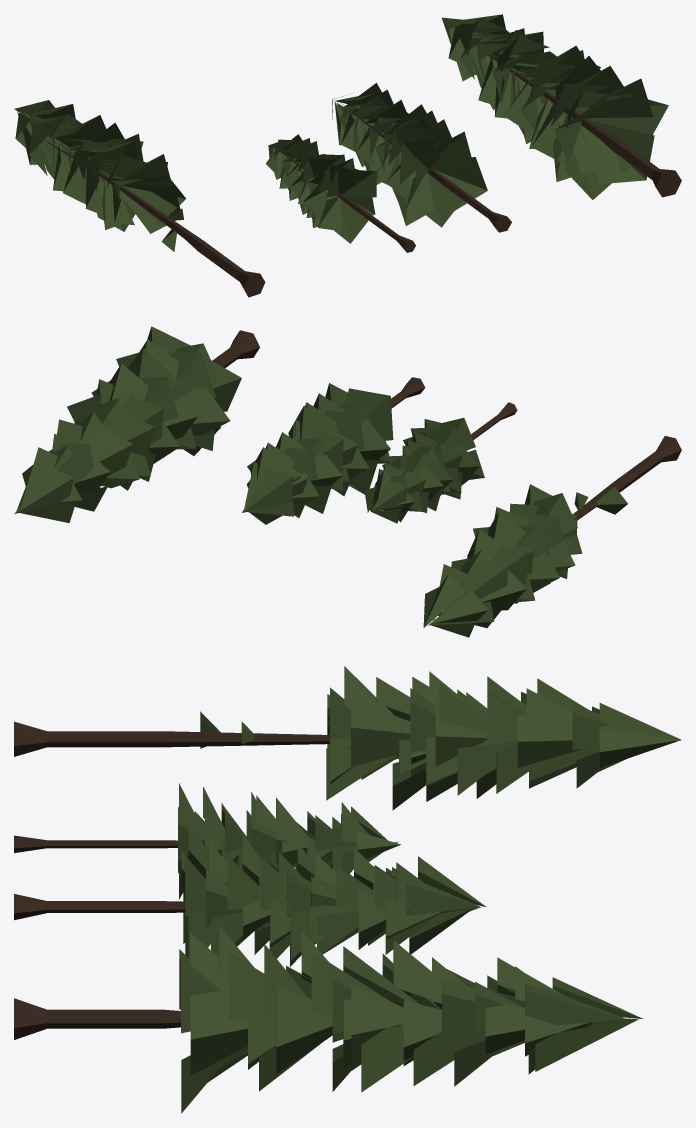
File: Trees 2.fbx
The picture shows the model from 3 angles, top to bottom: view 1: azimuth 30°, elevation 25°; view 2: azimuth 150°, elevation 25°; view 3: azimuth 270°, elevation 25°; orthographic projection. The views are drawn at different scales.
Parts seen in each view (by area): view 1: Fir Tree 4, Fir Tree 1, Fir Tree 2, Fir Tree 3; view 2: Fir Tree 4, Fir Tree 1, Fir Tree 2, Fir Tree 3; view 3: Fir Tree 4, Fir Tree 1, Fir Tree 2, Fir Tree 3.
Part boxes in pixels (box(x1,y1,x2,y2)): Fir Tree 4: box(442, 14, 681, 199); Fir Tree 1: box(14, 100, 265, 297); Fir Tree 2: box(332, 83, 511, 232); Fir Tree 3: box(265, 134, 415, 252); Fir Tree 4: box(14, 326, 259, 523); Fir Tree 1: box(423, 436, 681, 637); Fir Tree 2: box(242, 377, 425, 524); Fir Tree 3: box(364, 402, 517, 523); Fir Tree 4: box(14, 925, 643, 1113); Fir Tree 1: box(14, 666, 681, 810); Fir Tree 2: box(14, 819, 486, 966); Fir Tree 3: box(14, 783, 400, 899).
Bounding box in the file's own units: 10055 × 2213 × 8064.
